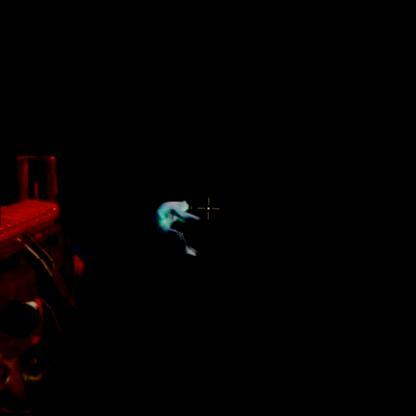person: (151, 198, 207, 256)
